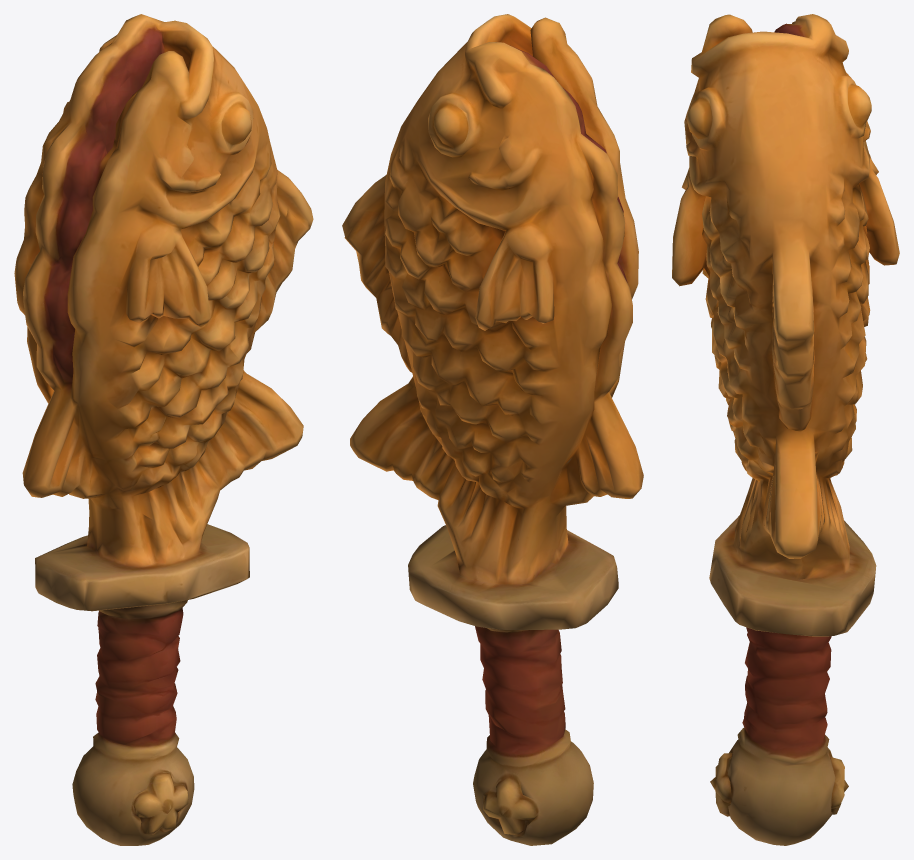
File: taiyaki_sword.glb
3 renders of one model, left to right at view 1: azimuth 30°, elevation 25°; view 2: azimuth 150°, elevation 25°; view 3: azimuth 270°, elevation 25°, orthographic. The views are drawn at different scales.
Visible parts, largest first — view 1: tripo_node_8fff434d-16c8-415c-bd8f-6d7bb4df3bde; view 2: tripo_node_8fff434d-16c8-415c-bd8f-6d7bb4df3bde; view 3: tripo_node_8fff434d-16c8-415c-bd8f-6d7bb4df3bde.
Part boxes in pixels (x1,y1,x2,y2): tripo_node_8fff434d-16c8-415c-bd8f-6d7bb4df3bde: [14, 14, 313, 845]; tripo_node_8fff434d-16c8-415c-bd8f-6d7bb4df3bde: [342, 14, 643, 845]; tripo_node_8fff434d-16c8-415c-bd8f-6d7bb4df3bde: [672, 14, 899, 845].
Size of the model in its own units: 0.3753 by 0.9993 by 0.2473.
1 material, 1 textured.
